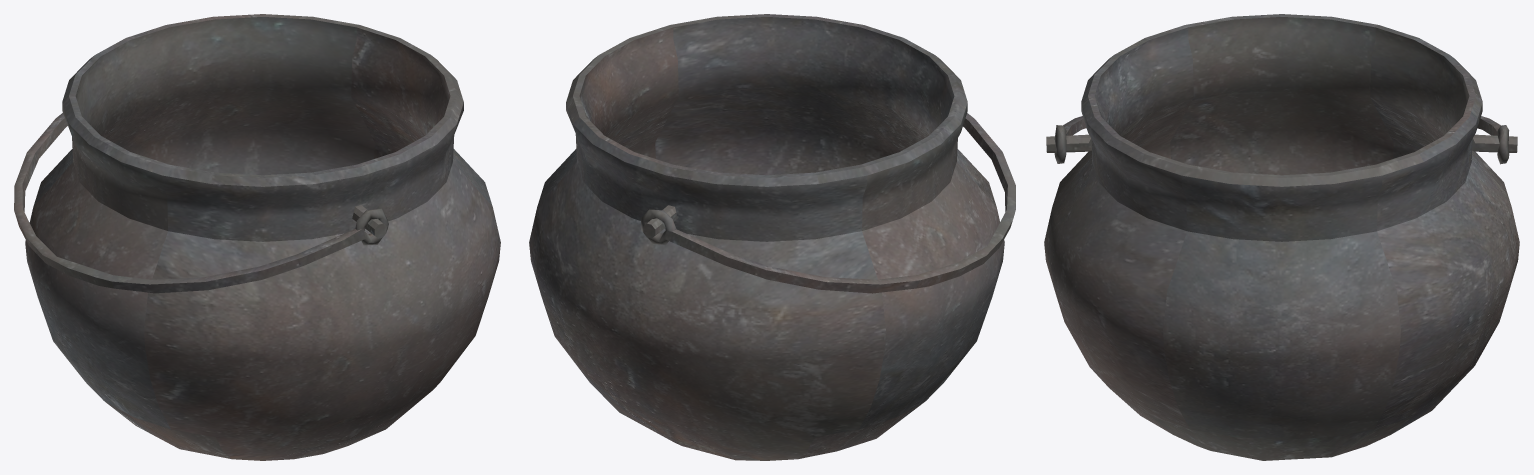
File: SM_ConicalCauldron_01.fbx
3 renders of one model, left to right at view 1: azimuth 30°, elevation 25°; view 2: azimuth 150°, elevation 25°; view 3: azimuth 270°, elevation 25°, orthographic.
Parts seen in each view (by area): view 1: SM_ConicalCauldron_01_LOD0; view 2: SM_ConicalCauldron_01_LOD0; view 3: SM_ConicalCauldron_01_LOD0.
Boxes of the visible parts, x1=… form: SM_ConicalCauldron_01_LOD0: x1=14, y1=14, x2=500, y2=460; SM_ConicalCauldron_01_LOD0: x1=529, y1=14, x2=1015, y2=460; SM_ConicalCauldron_01_LOD0: x1=1044, y1=14, x2=1519, y2=460.
Size of the model in its own units: 48.82 by 47.24 by 37.04.
